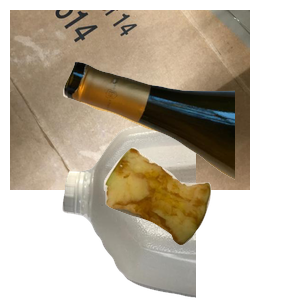cardboard: (10, 10, 250, 190)
glass: (60, 59, 300, 231)
plastic: (60, 120, 300, 300)
trash: (101, 145, 300, 300)
